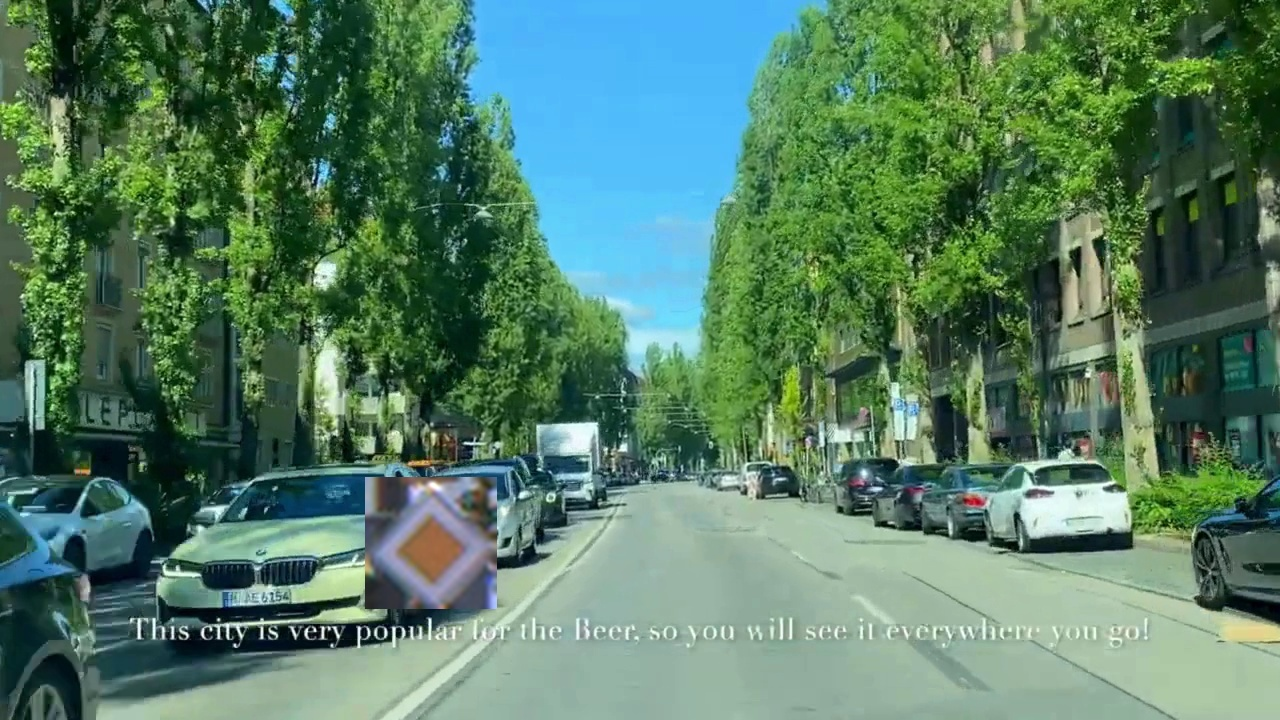Priority road: (365, 477, 497, 609)
